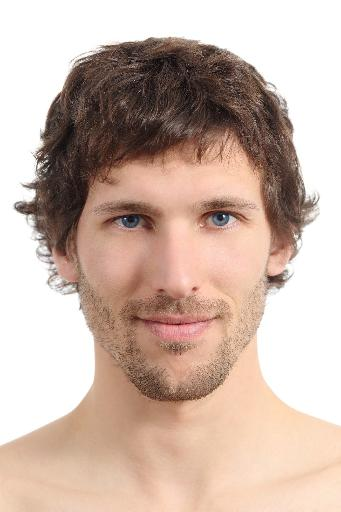left_eye: (197, 209, 248, 231)
left_lip_corner: (199, 310, 223, 331)
right_eye: (105, 211, 158, 233)
right_lip_corner: (126, 309, 150, 328)
